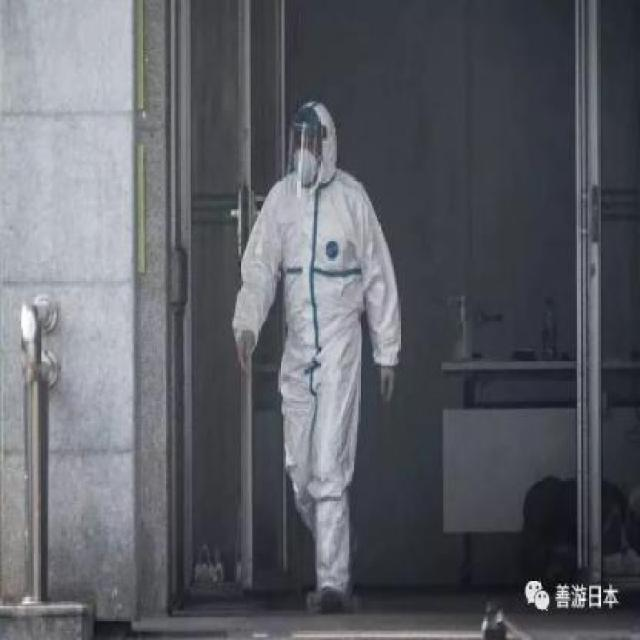face_mask: (288, 134, 326, 191)
hand_noglove: (374, 363, 395, 405), (235, 334, 254, 374)
person: (203, 96, 406, 622)
